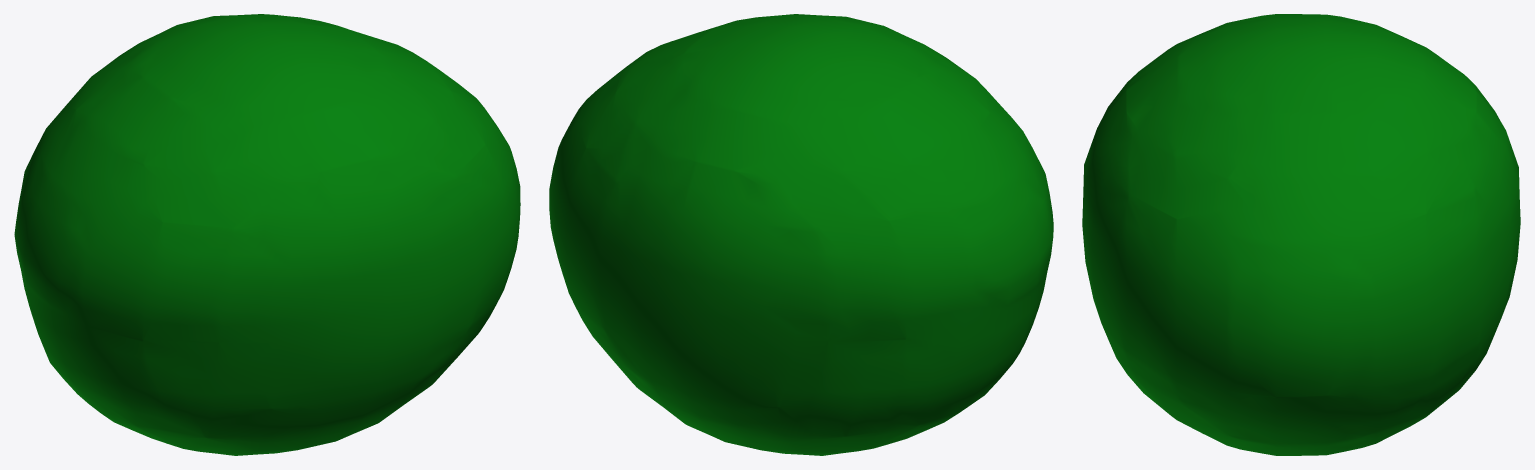
Rendered from green_goo_arms.fbx.
3 renders of one model, left to right at view 1: azimuth 30°, elevation 25°; view 2: azimuth 150°, elevation 25°; view 3: azimuth 270°, elevation 25°, orthographic.
Visible parts, largest first — view 1: Mball.002; view 2: Mball.002; view 3: Mball.002.
Boxes of the visible parts, <box> form: Mball.002: <box>14,14,520,455</box>; Mball.002: <box>549,14,1053,455</box>; Mball.002: <box>1082,14,1520,455</box>.
Size of the model in its own units: 39.32 by 32.07 by 32.54.
